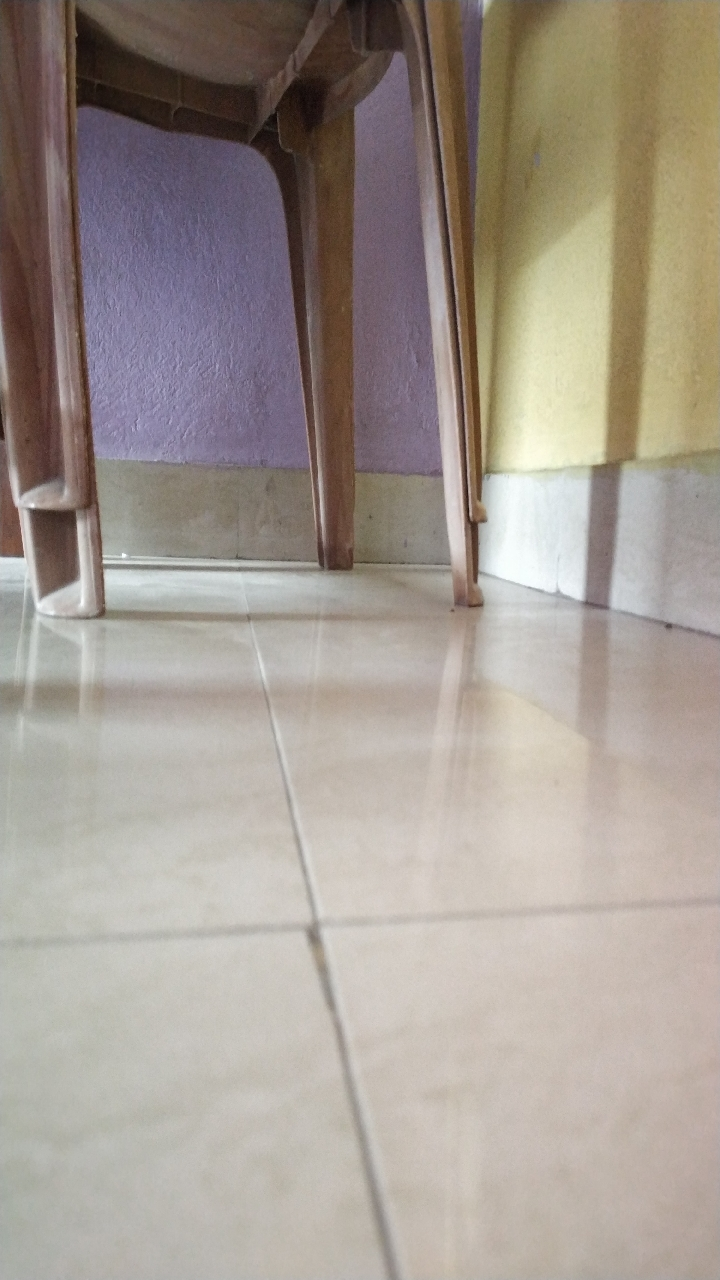Furnitures: (4, 122, 513, 630)
